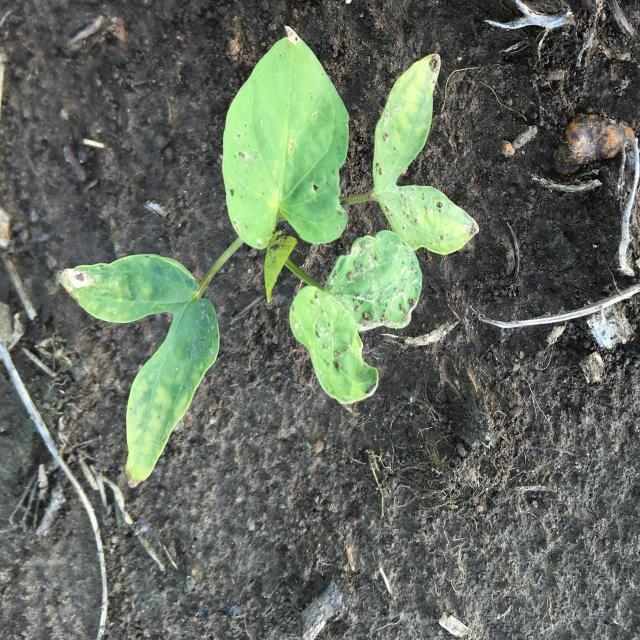MorningGlory: (57, 26, 479, 488)
